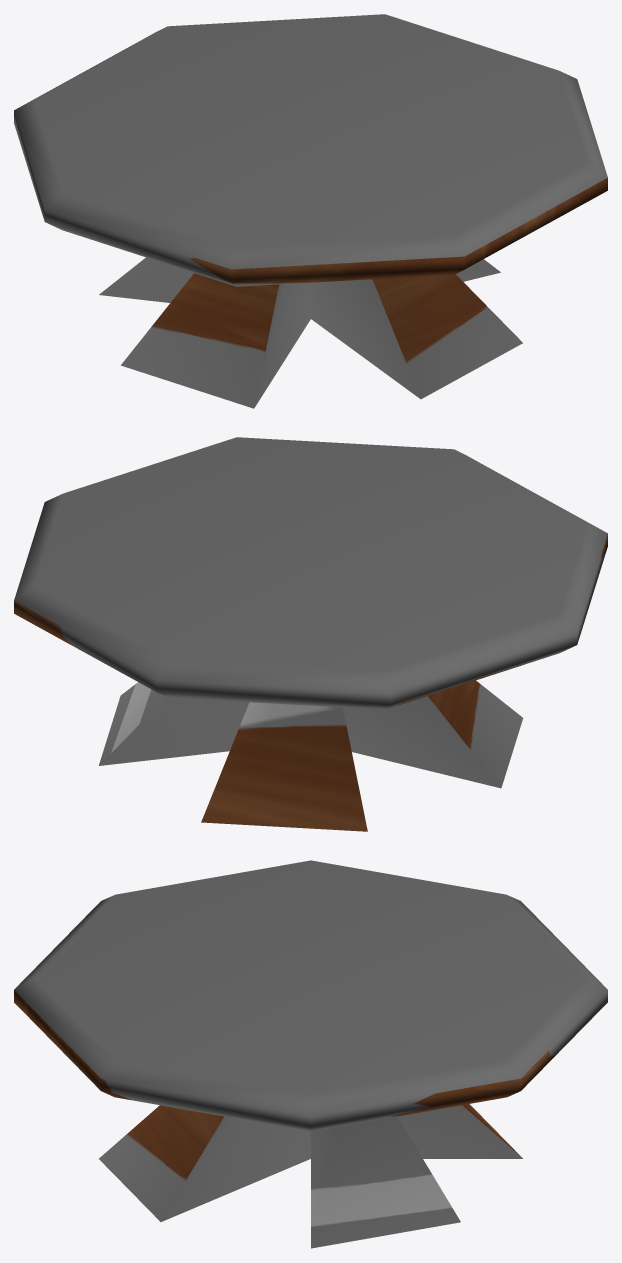
The model's file is Mesa.fbx.
3 renders of one model, top to bottom at view 1: azimuth 30°, elevation 25°; view 2: azimuth 150°, elevation 25°; view 3: azimuth 270°, elevation 25°, orthographic. The views are drawn at different scales.
Parts seen in each view (by area): view 1: pCylinder43; view 2: pCylinder43; view 3: pCylinder43.
Boxes of the visible parts, x1=… form: pCylinder43: x1=14, y1=14, x2=607, y2=408; pCylinder43: x1=14, y1=437, x2=607, y2=831; pCylinder43: x1=14, y1=860, x2=607, y2=1248.
Size of the model in its own units: 107 by 36.18 by 107.
